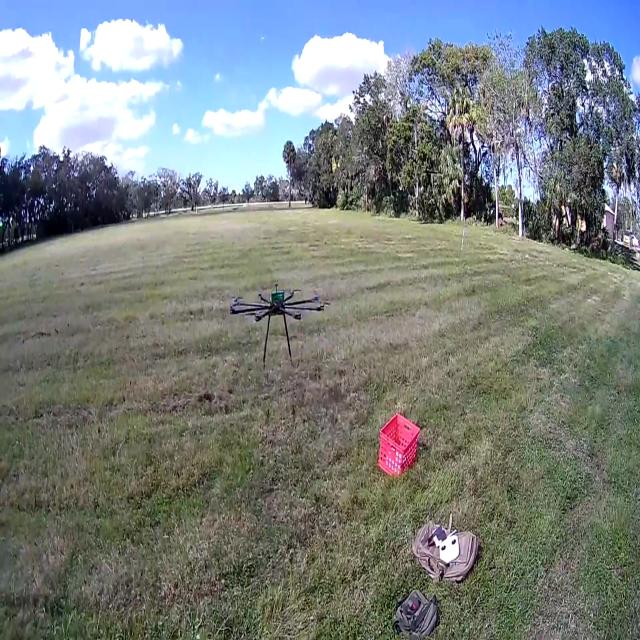drone: (223, 227, 339, 390)
